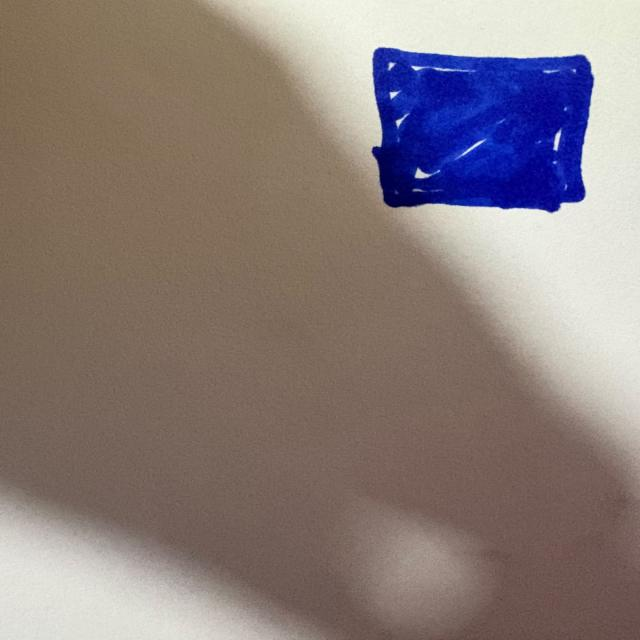Square: (372, 48, 593, 212)
